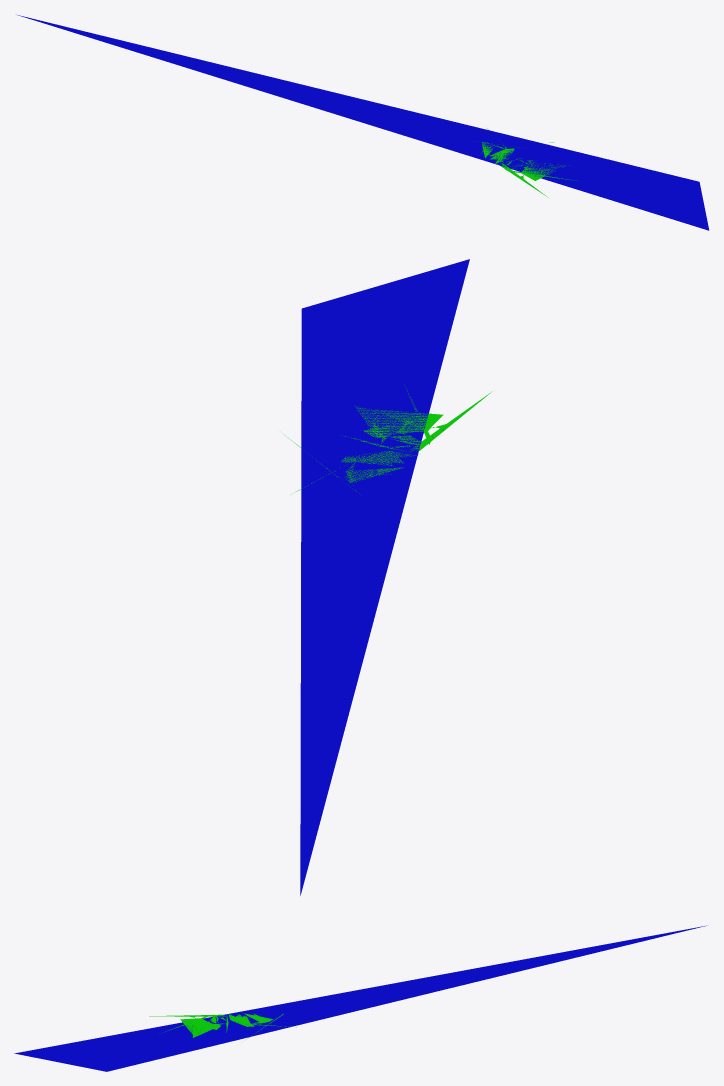
The picture shows the model from 3 angles, top to bottom: view 1: azimuth 30°, elevation 25°; view 2: azimuth 150°, elevation 25°; view 3: azimuth 270°, elevation 25°; orthographic projection. The views are drawn at different scales.
Size of the model in its own units: 1230 by 0 by 2465.
